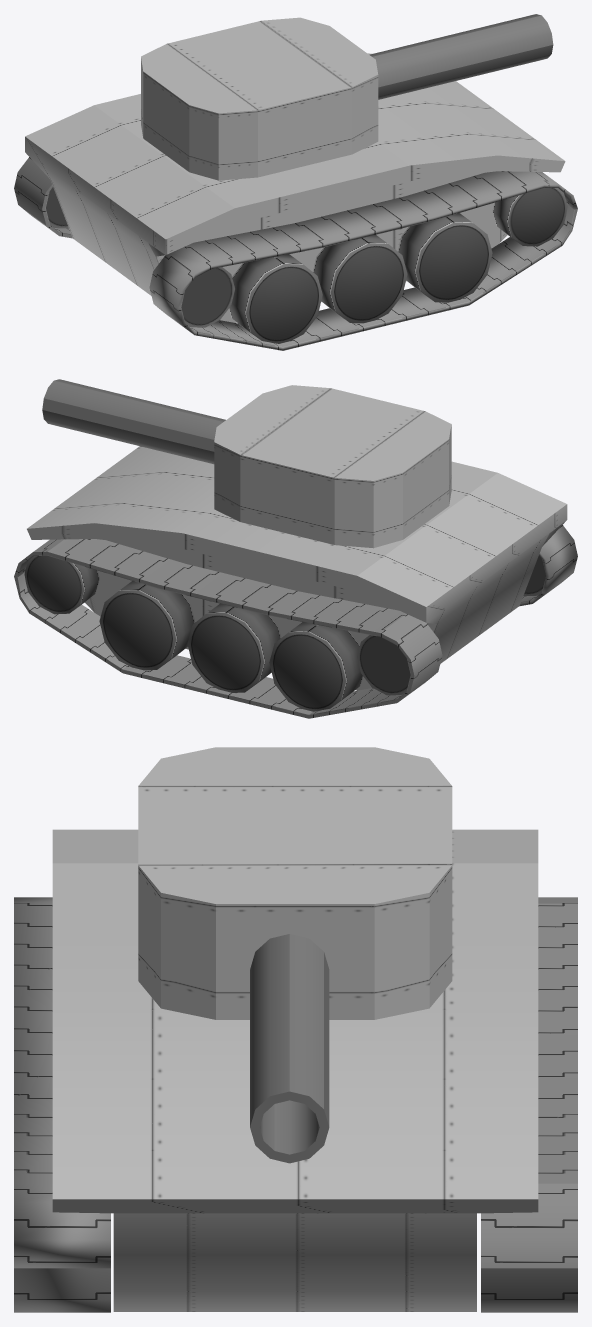
Rendered from tank.glb.
3 views of the same model, one above another, from view 1: azimuth 30°, elevation 25°; view 2: azimuth 150°, elevation 25°; view 3: azimuth 270°, elevation 25° (orthographic). The views are drawn at different scales.
Parts seen in each view (by area): view 1: Body, Turret, Right Track, Barrel, Right Wheel 4, Right Wheel 2, Right Wheel 3.001, Right Wheel 1, Right Wheel 5, Left Track, Left Wheel 5; view 2: Body, Turret, Left Track, Barrel, Right Wheel 3, Left Wheel 2, Left Wheel 3, Left Wheel 1, Left Wheel 5, Right Track, Right Wheel 5; view 3: Body, Turret, Left Track, Right Track, Barrel.
Boxes of the visible parts, x1=… form: Body: x1=25, y1=53, x2=565, y2=322; Turret: x1=141, y1=17, x2=378, y2=180; Right Track: x1=149, y1=171, x2=577, y2=350; Barrel: x1=369, y1=14, x2=553, y2=99; Right Wheel 4: x1=229, y1=254, x2=322, y2=343; Right Wheel 2: x1=397, y1=213, x2=492, y2=302; Right Wheel 3.001: x1=312, y1=235, x2=407, y2=323; Right Wheel 1: x1=492, y1=188, x2=567, y2=246; Right Wheel 5: x1=181, y1=267, x2=234, y2=327; Left Track: x1=14, y1=157, x2=72, y2=238; Left Wheel 5: x1=46, y1=187, x2=68, y2=228; Body: x1=27, y1=446, x2=567, y2=690; Turret: x1=214, y1=385, x2=451, y2=548; Left Track: x1=14, y1=539, x2=442, y2=718; Barrel: x1=42, y1=379, x2=225, y2=464; Right Wheel 3: x1=269, y1=622, x2=362, y2=711; Left Wheel 2: x1=99, y1=581, x2=195, y2=670; Left Wheel 3: x1=187, y1=603, x2=281, y2=692; Left Wheel 1: x1=24, y1=555, x2=99, y2=614; Left Wheel 5: x1=357, y1=635, x2=410, y2=695; Right Track: x1=519, y1=525, x2=577, y2=606; Right Wheel 5: x1=523, y1=555, x2=545, y2=596; Body: x1=52, y1=829, x2=538, y2=1311; Turret: x1=138, y1=747, x2=452, y2=1019; Left Track: x1=481, y1=897, x2=577, y2=1312; Right Track: x1=14, y1=897, x2=110, y2=1312; Barrel: x1=250, y1=934, x2=329, y2=1163.
Size of the model in its own units: 12.19 by 5.54 by 7.76.
3 materials, 2 textured.
